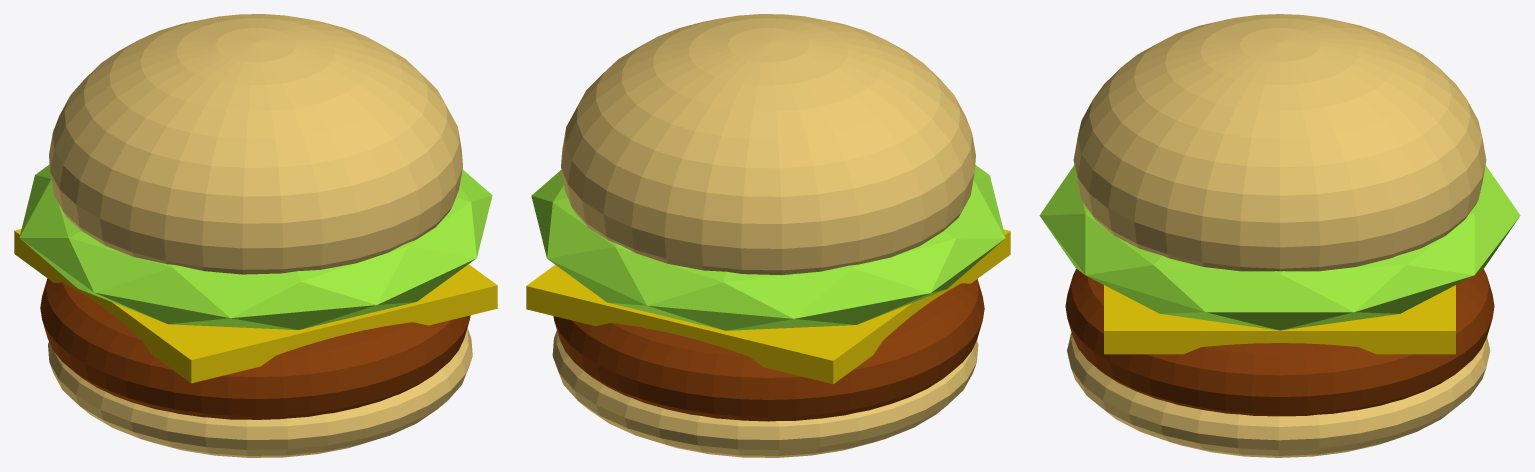
File: Burger.glb
3 views of the same model, side by side, from view 1: azimuth 30°, elevation 25°; view 2: azimuth 150°, elevation 25°; view 3: azimuth 270°, elevation 25° (orthographic).
Visible parts, largest first — view 1: Sphere.001, Icosphere, Torus, Sphere, Cube; view 2: Sphere.001, Icosphere, Torus, Sphere, Cube; view 3: Sphere.001, Icosphere, Torus, Sphere, Cube.
Part boxes in pixels (bbox=[...]): Sphere.001: bbox=[49, 14, 462, 274]; Icosphere: bbox=[19, 164, 492, 329]; Torus: bbox=[40, 278, 470, 419]; Sphere: bbox=[48, 328, 472, 457]; Cube: bbox=[14, 229, 497, 383]; Sphere.001: bbox=[561, 14, 975, 275]; Icosphere: bbox=[531, 165, 1005, 330]; Torus: bbox=[553, 279, 984, 421]; Sphere: bbox=[552, 330, 978, 457]; Cube: bbox=[526, 229, 1010, 384]; Sphere.001: bbox=[1073, 14, 1486, 271]; Icosphere: bbox=[1039, 165, 1520, 330]; Torus: bbox=[1065, 268, 1494, 416]; Sphere: bbox=[1067, 332, 1490, 457]; Cube: bbox=[1104, 285, 1455, 354].
Bounding box in the file's own units: 3.21 × 2.83 × 3.38.
